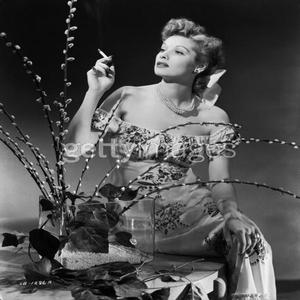cigarette: (96, 48, 113, 64)
